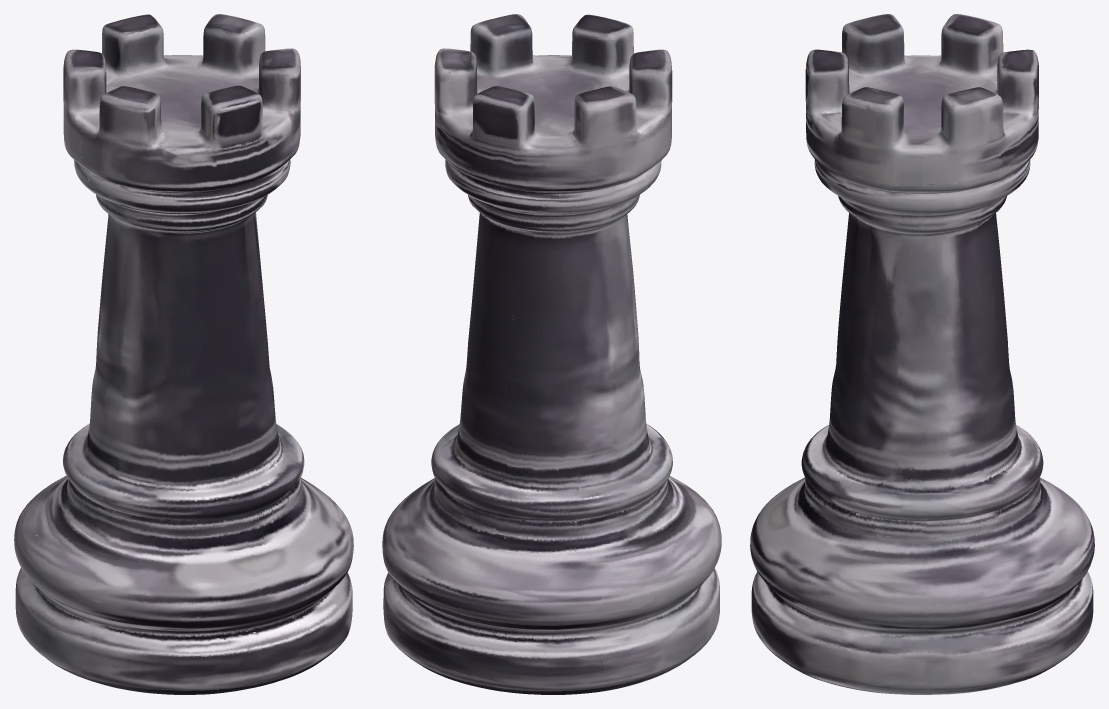
File: rook.glb
3 views of the same model, side by side, from view 1: azimuth 30°, elevation 25°; view 2: azimuth 150°, elevation 25°; view 3: azimuth 270°, elevation 25° (orthographic).
Visible parts, largest first — view 1: rook; view 2: rook; view 3: rook.
Part boxes in pixels (left/top/right/bottom): rook: left=14, top=14, right=353, bottom=694; rook: left=382, top=14, right=721, bottom=694; rook: left=750, top=14, right=1094, bottom=694.
Size of the model in its own units: 0.2479 by 0.4668 by 0.2549.
Materials: 1 (1 with a texture image).
